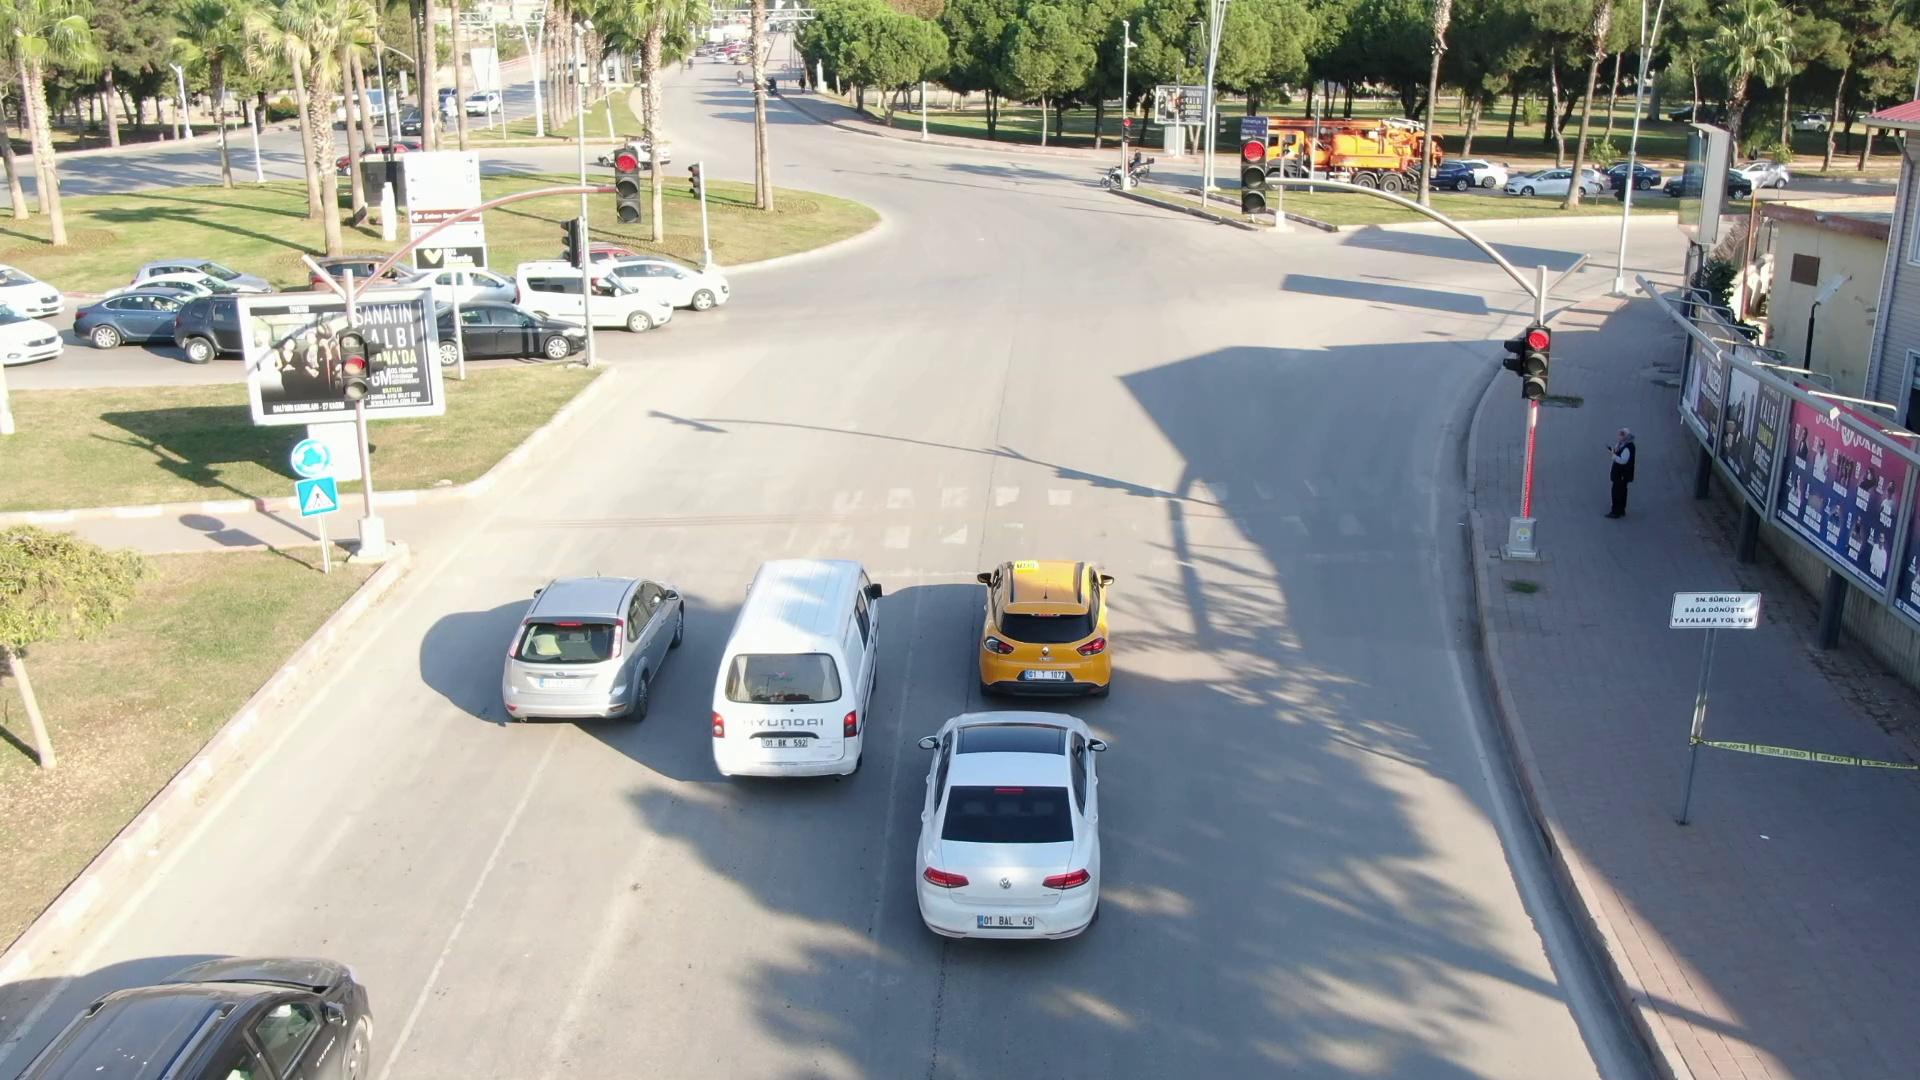car: (912, 706, 1123, 939), (690, 543, 888, 778), (1, 963, 392, 1080), (461, 553, 684, 719), (961, 543, 1121, 698)
person: (1592, 417, 1643, 525)
